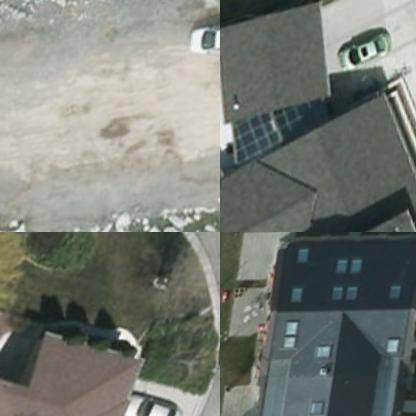car: (334, 34, 398, 76), (115, 384, 190, 415), (181, 13, 219, 72), (205, 311, 219, 387)
